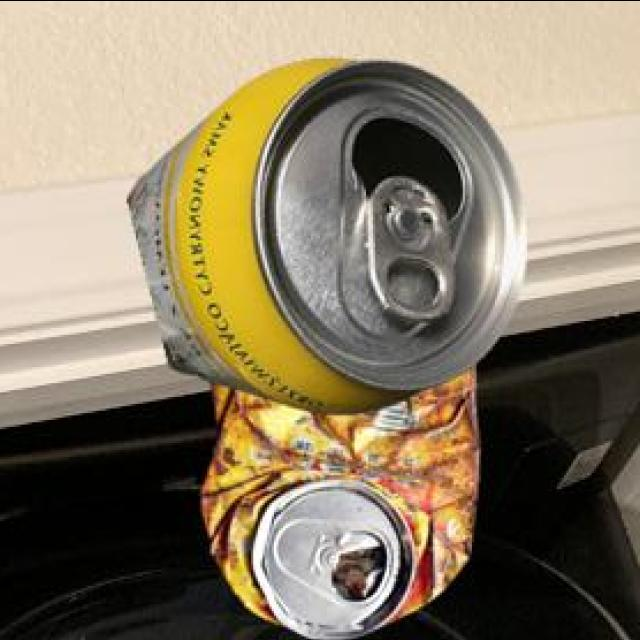logam: (123, 54, 524, 411), (197, 360, 475, 634)
